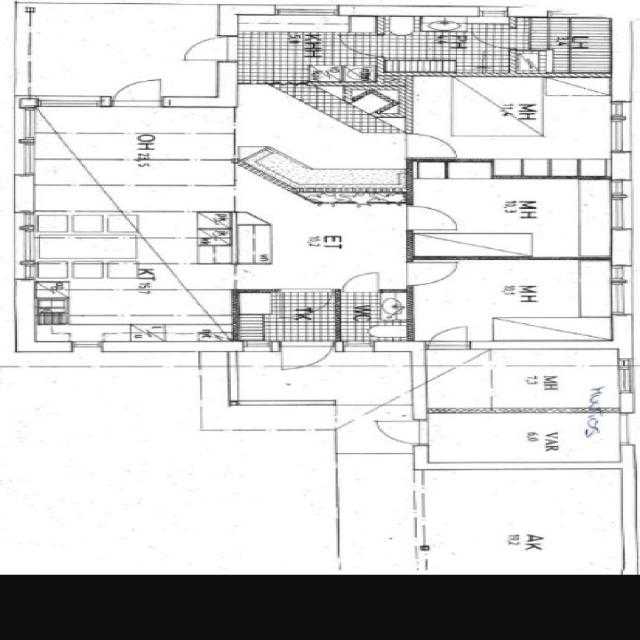door: (25, 4, 220, 100), (400, 202, 466, 234), (107, 75, 169, 109), (275, 338, 336, 371), (400, 258, 464, 288), (399, 130, 462, 160), (371, 417, 432, 447), (177, 34, 238, 64), (422, 323, 478, 351), (336, 269, 388, 294), (228, 266, 270, 285)
window: (604, 185, 638, 234), (602, 274, 637, 318), (603, 111, 634, 157), (12, 224, 43, 268), (32, 94, 110, 111), (11, 105, 43, 146), (8, 140, 41, 178), (612, 362, 640, 405), (408, 481, 433, 522), (272, 4, 342, 17), (614, 411, 637, 447), (68, 339, 107, 354)
zone: (29, 105, 236, 219), (411, 74, 620, 176), (417, 467, 629, 564), (22, 4, 221, 99), (408, 258, 620, 343), (404, 176, 616, 259), (31, 265, 236, 345), (233, 205, 410, 290), (421, 344, 628, 413), (421, 411, 627, 468), (235, 289, 413, 344), (235, 14, 378, 82), (509, 18, 612, 76), (331, 291, 414, 342), (5, 442, 73, 480)
